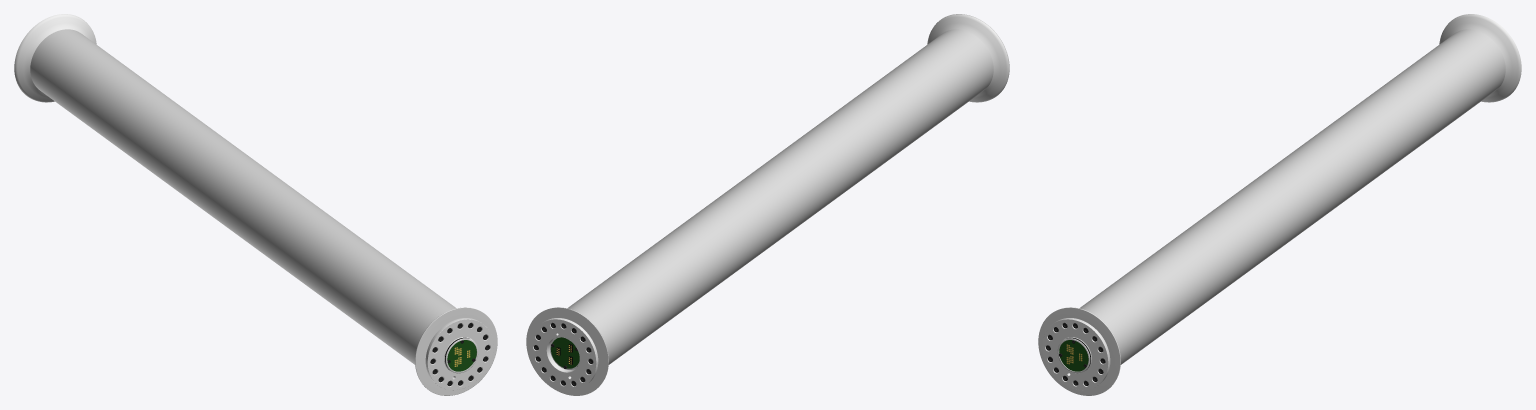
3 views of the same model, side by side, from view 1: azimuth 30°, elevation 25°; view 2: azimuth 150°, elevation 25°; view 3: azimuth 330°, elevation 25° (orthographic).
Visible parts, largest first — view 1: I116.001; view 2: I116.001; view 3: I116.001.
Boxes of the visible parts, box(x1,y1,x2,y2) form: I116.001: box(14, 14, 497, 395); I116.001: box(526, 14, 1009, 395); I116.001: box(1038, 14, 1521, 395).
Size of the model in its own units: 0.116 by 0.116 by 1.
